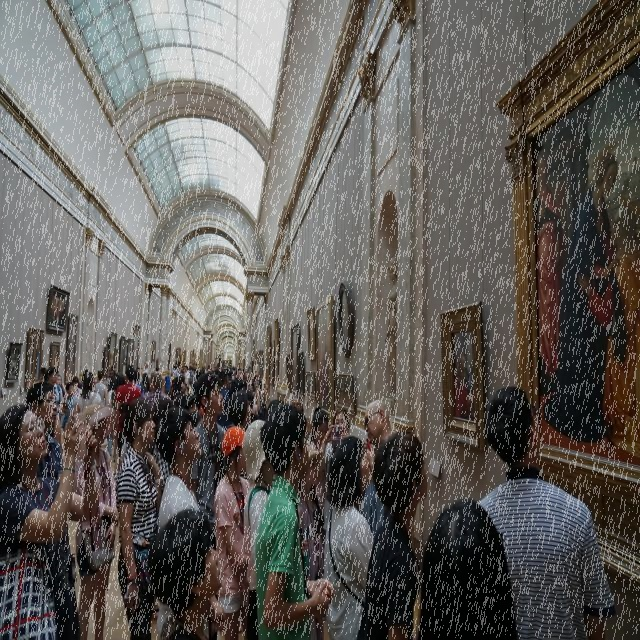pessoa: (0, 297, 473, 434), (478, 384, 618, 640), (528, 125, 632, 442), (0, 402, 100, 640), (254, 400, 336, 640), (149, 402, 231, 640), (357, 426, 430, 640), (415, 496, 519, 640), (112, 396, 167, 640), (72, 400, 120, 640), (323, 433, 375, 639), (146, 506, 224, 640), (190, 370, 228, 640), (212, 425, 252, 640), (241, 418, 276, 640), (296, 442, 326, 640), (318, 407, 352, 552), (360, 398, 394, 540), (23, 381, 64, 487), (109, 434, 174, 494), (306, 404, 334, 516), (151, 590, 167, 640), (384, 250, 398, 296)
